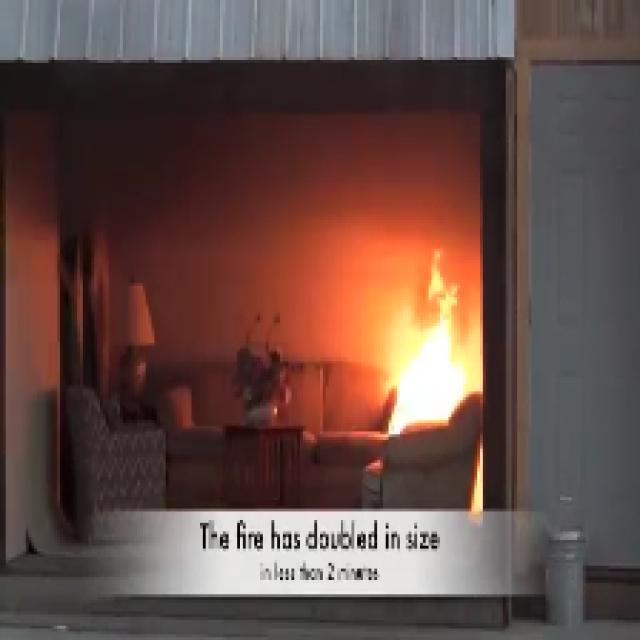Fire: (384, 256, 482, 440)
